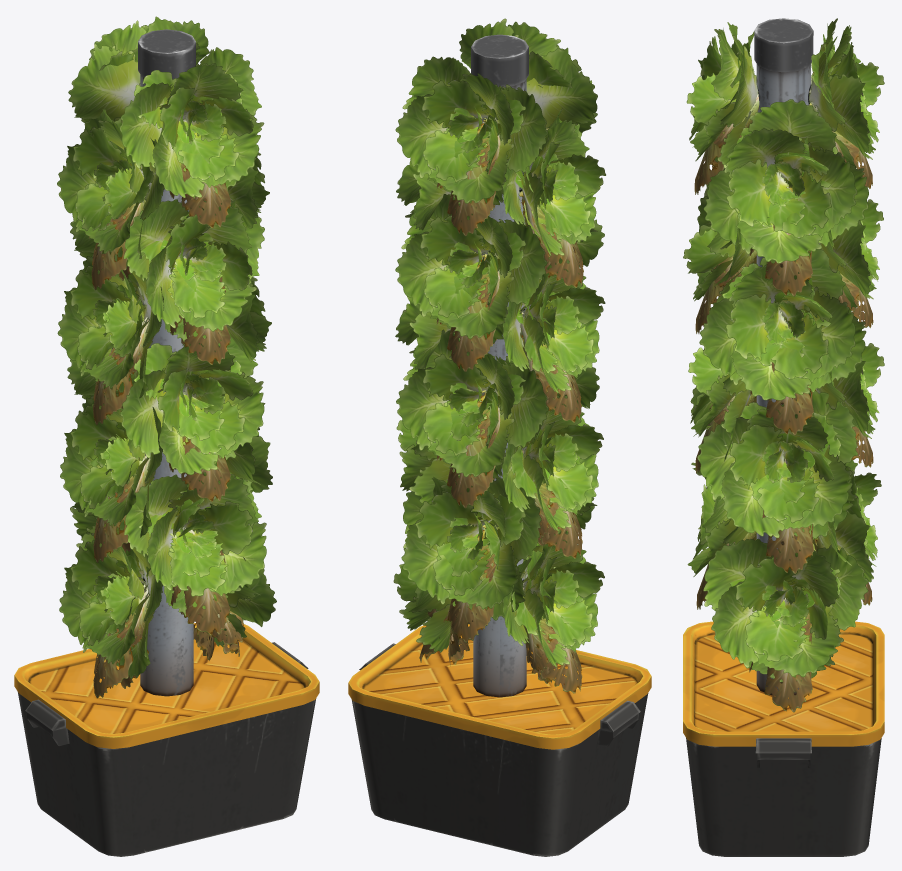
Rendered from hydroponics_tower02_lettuce.fbx.
3 renders of one model, left to right at view 1: azimuth 30°, elevation 25°; view 2: azimuth 150°, elevation 25°; view 3: azimuth 270°, elevation 25°, orthographic. The views are drawn at different scales.
Visible parts, largest first — view 1: hydroponics_tower02_S3_lettuce, hydroponics_tower02_lettuce, hydroponics_tower02_S4_lettuce, hydroponics_tower02_S2_lettuce, hydroponics_tower02_S1_lettuce; view 2: hydroponics_tower02_S3_lettuce, hydroponics_tower02_lettuce, hydroponics_tower02_S4_lettuce, hydroponics_tower02_S2_lettuce, hydroponics_tower02_S1_lettuce; view 3: hydroponics_tower02_S3_lettuce, hydroponics_tower02_lettuce, hydroponics_tower02_S4_lettuce, hydroponics_tower02_S2_lettuce, hydroponics_tower02_S1_lettuce.
Part boxes in pixels (<box>): hydroponics_tower02_S3_lettuce: <box>57,16,276,679</box>; hydroponics_tower02_lettuce: <box>14,29,319,856</box>; hydroponics_tower02_S4_lettuce: <box>87,118,244,698</box>; hydroponics_tower02_S2_lettuce: <box>85,43,242,634</box>; hydroponics_tower02_S1_lettuce: <box>124,95,222,576</box>; hydroponics_tower02_S3_lettuce: <box>393,18,605,667</box>; hydroponics_tower02_lettuce: <box>348,34,651,856</box>; hydroponics_tower02_S4_lettuce: <box>419,118,583,693</box>; hydroponics_tower02_S2_lettuce: <box>429,51,583,635</box>; hydroponics_tower02_S1_lettuce: <box>456,84,551,615</box>; hydroponics_tower02_S3_lettuce: <box>683,18,884,682</box>; hydroponics_tower02_lettuce: <box>683,18,884,856</box>; hydroponics_tower02_S4_lettuce: <box>694,90,873,712</box>; hydroponics_tower02_S2_lettuce: <box>700,31,868,641</box>; hydroponics_tower02_S1_lettuce: <box>737,55,831,621</box>.
Bounding box in the file's own units: 0.6639 × 1.92 × 0.4584.
